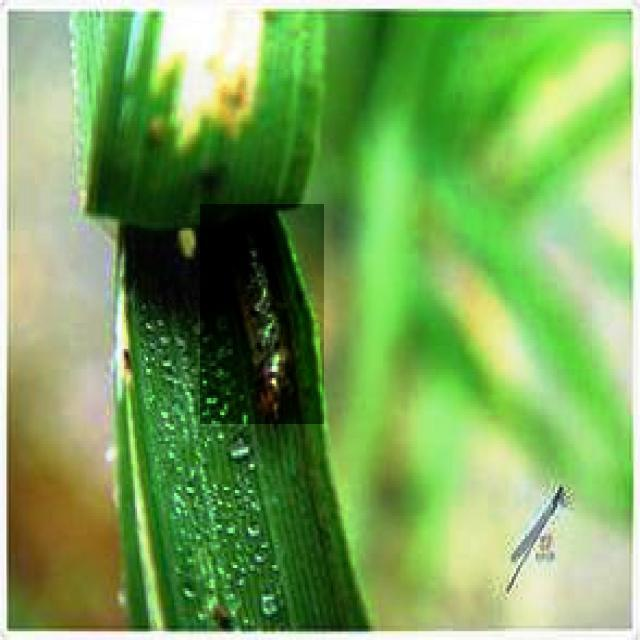leaf-folder: (200, 204, 324, 424)
